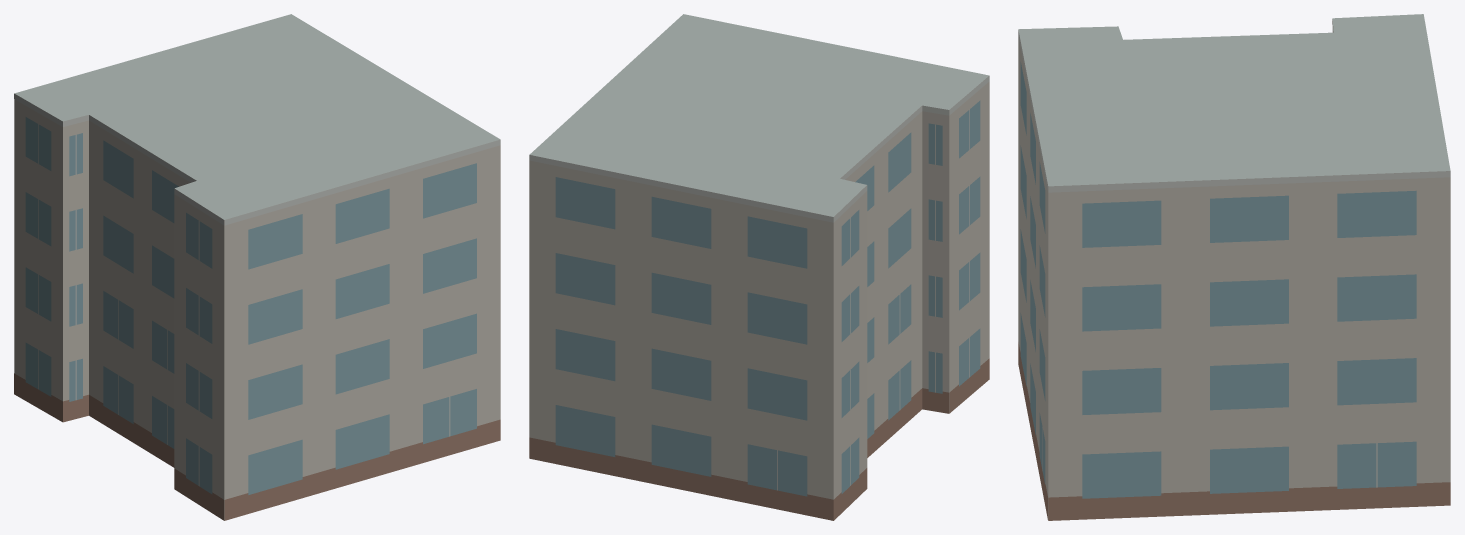
File: survey-upis-32743538.glb
3 renders of one model, left to right at view 1: azimuth 30°, elevation 25°; view 2: azimuth 150°, elevation 25°; view 3: azimuth 270°, elevation 25°, orthographic. The views are drawn at different scales.
Parts seen in each view (by area): view 1: survey-upis-32743538.tmp; view 2: survey-upis-32743538.tmp; view 3: survey-upis-32743538.tmp.
Part boxes in pixels (bbox=[...]): survey-upis-32743538.tmp: bbox=[14, 14, 500, 520]; survey-upis-32743538.tmp: bbox=[529, 14, 989, 520]; survey-upis-32743538.tmp: bbox=[1018, 14, 1450, 520].
Bounding box in the file's own units: 14.37 × 13 × 15.23.
